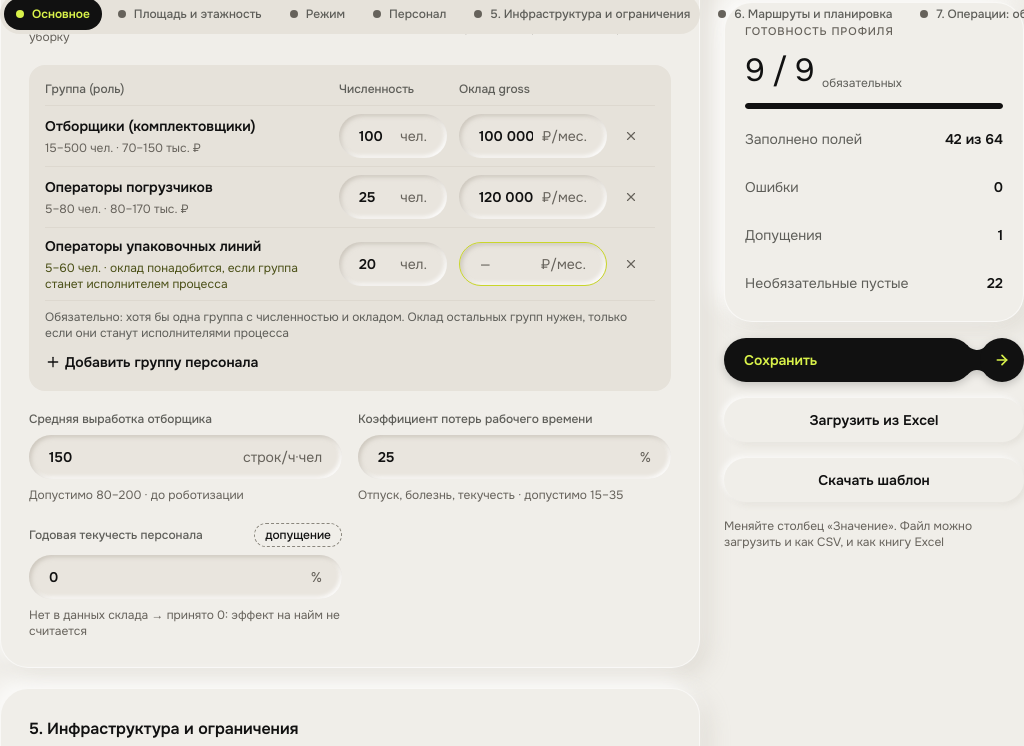
Test: LocationNewPage (экран 14) › adds and removes staff groups
This screenshot has width=1024, height=746.
(page scrolled)
Click the button "Добавить группу персонала": click(152, 362) [45,341,258,383]
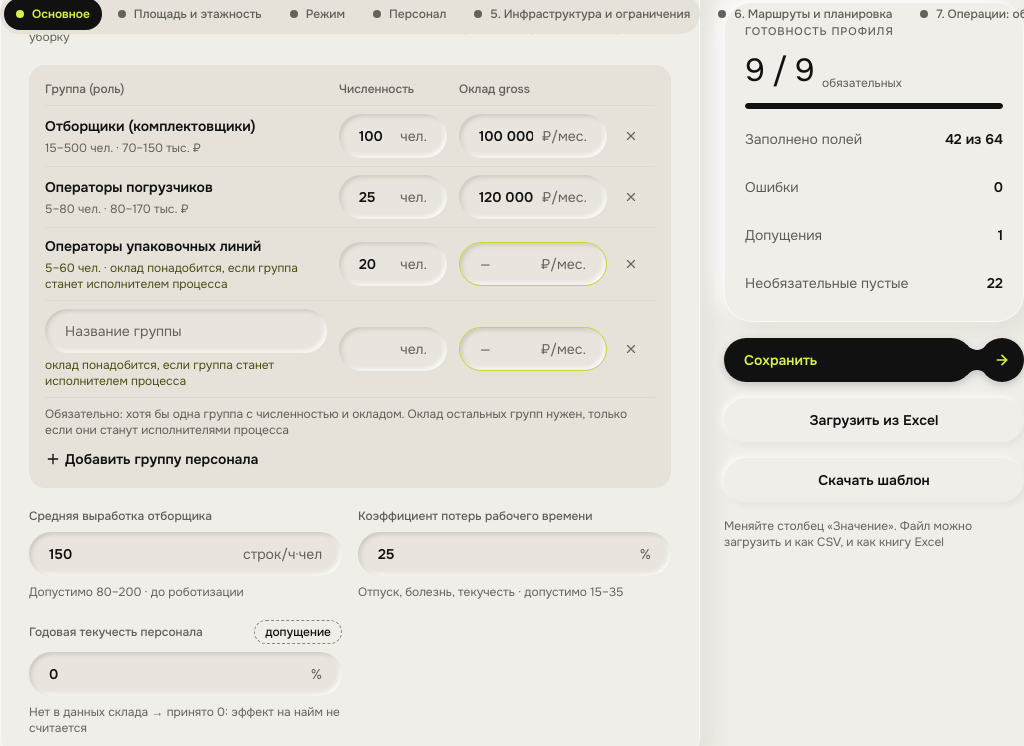
expect the field named "Название группы персонала" is shown: met, box [65,321,307,341]
Click the button named "Удалить группу «новая группа»": click(631, 349) [619,337,643,361]
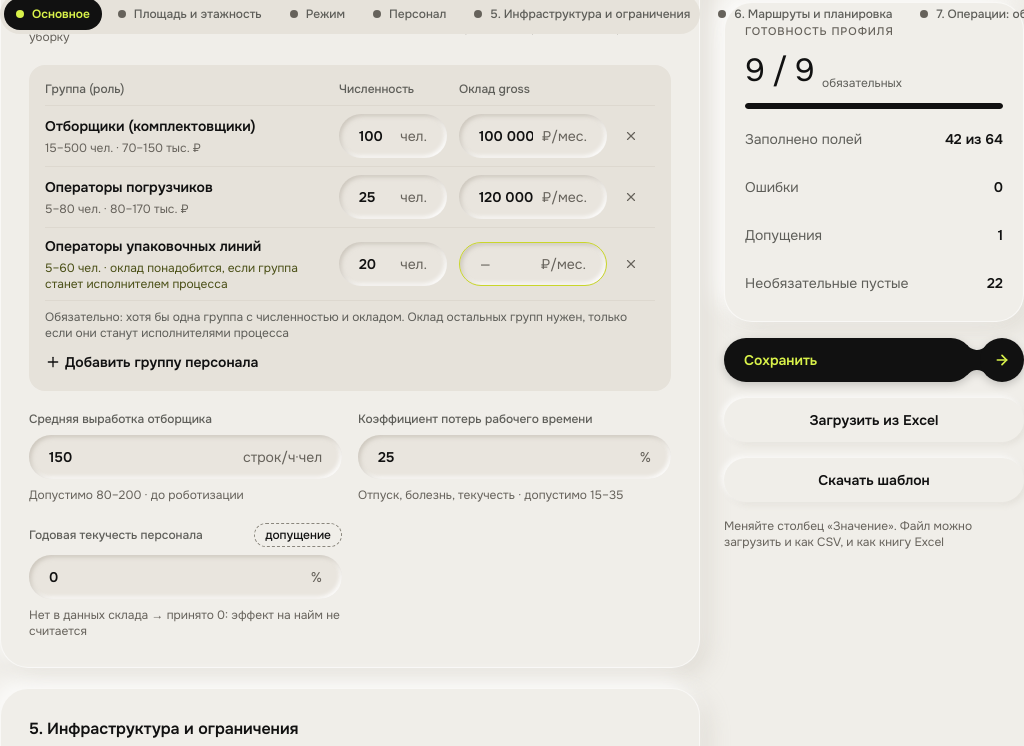
Click the button named "Удалить группу «Операторы упаковочных линий»": click(631, 264) [619,252,643,276]
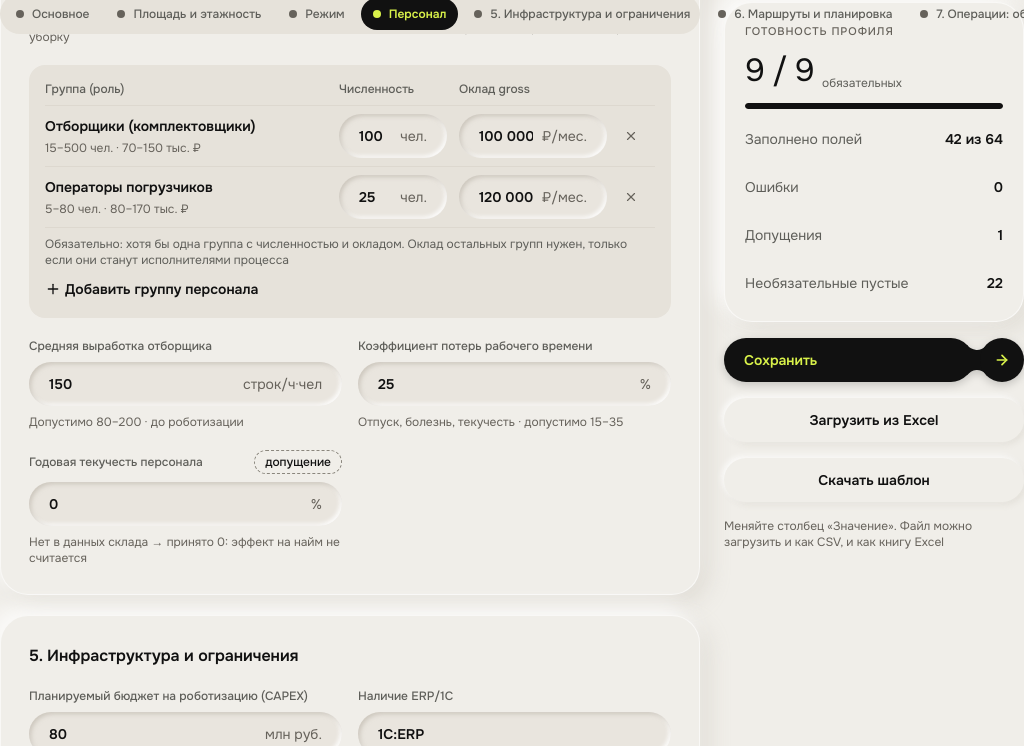
expect the text "Операторы упаковочных линий" is gone: met
